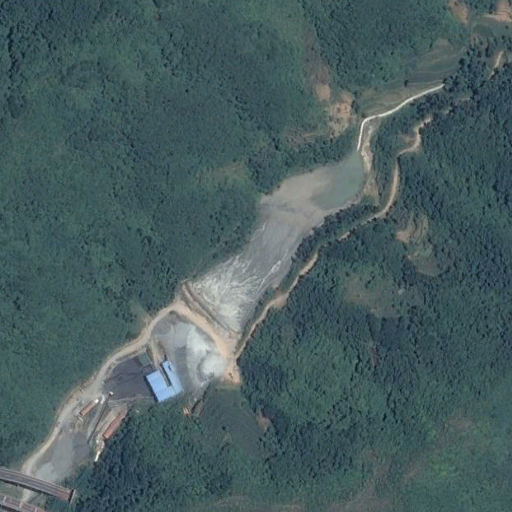tp: (180, 151, 366, 347)
